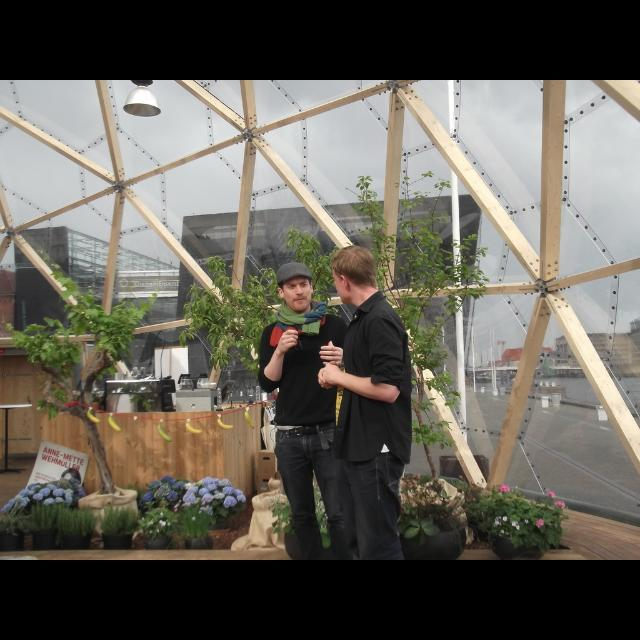Flower: (1, 480, 84, 510), (183, 476, 245, 504), (140, 478, 188, 506), (226, 498, 237, 507)
